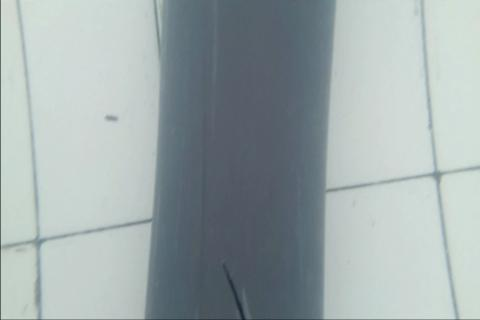keretakan: (221, 259, 249, 320)
